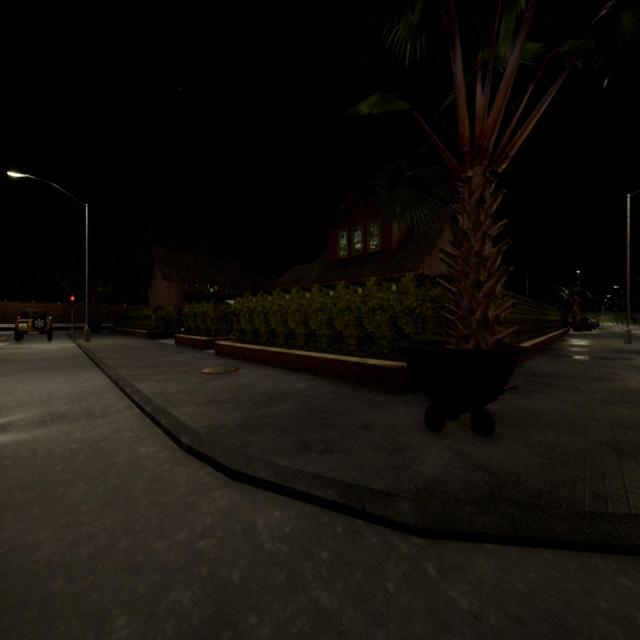Vehicle: (14, 309, 52, 341), (582, 316, 600, 331)
traffic_light: (70, 295, 75, 308)
